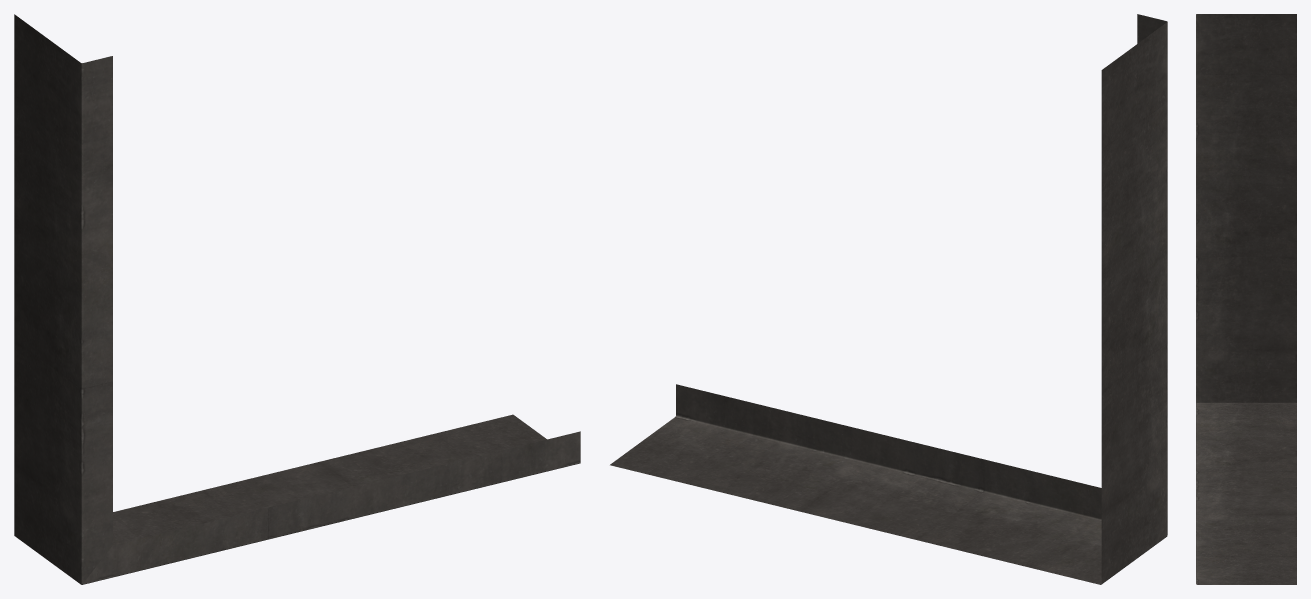
Rendered from base_corner_large_01.gltf.
The picture shows the model from 3 angles, left to right: view 1: azimuth 30°, elevation 25°; view 2: azimuth 150°, elevation 25°; view 3: azimuth 270°, elevation 25°; orthographic projection. The views are drawn at different scales.
Parts seen in each view (by area): view 1: base_corner_large_01; view 2: base_corner_large_01; view 3: base_corner_large_01.
Boxes of the visible parts, x1=… form: base_corner_large_01: x1=14, y1=14, x2=580, y2=584; base_corner_large_01: x1=610, y1=14, x2=1167, y2=584; base_corner_large_01: x1=1196, y1=14, x2=1296, y2=584.
Size of the model in its own units: 3.2 by 3.2 by 0.75.
1 material, 1 textured.
